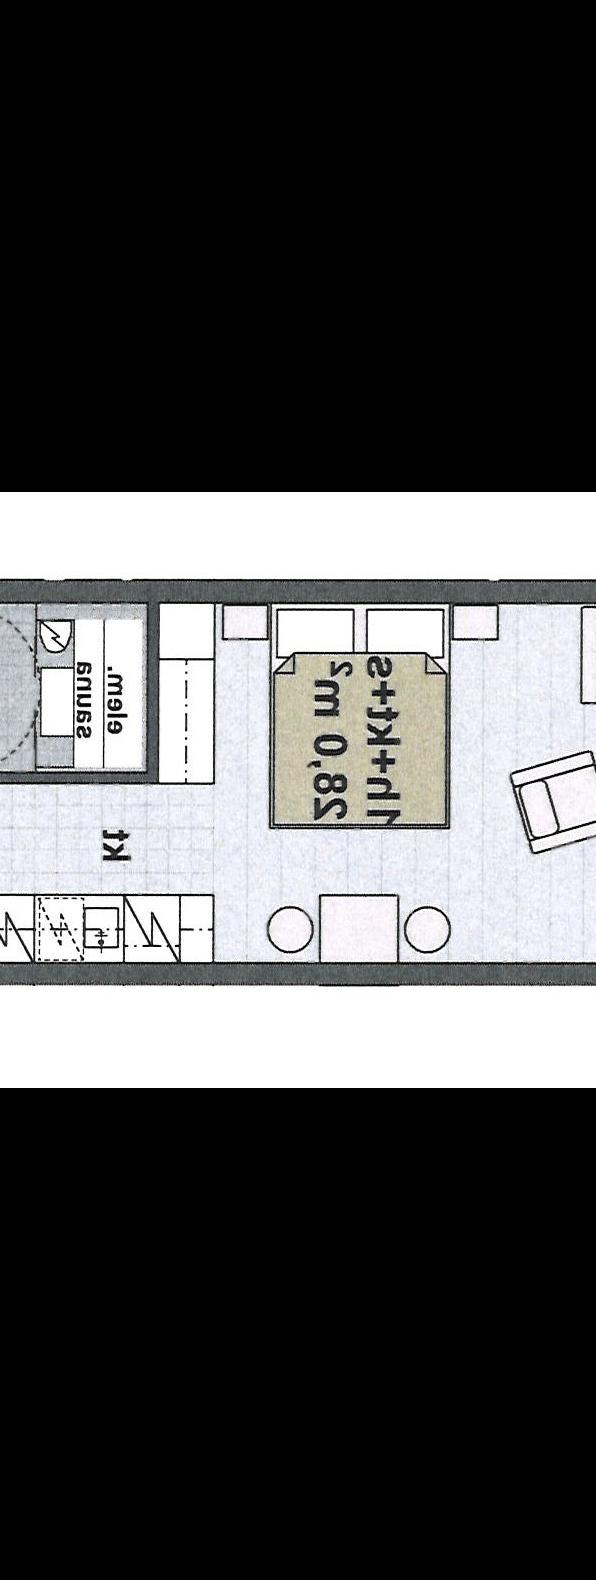bathroom: (0, 603, 143, 772)
perimeter: (0, 572, 596, 985)
